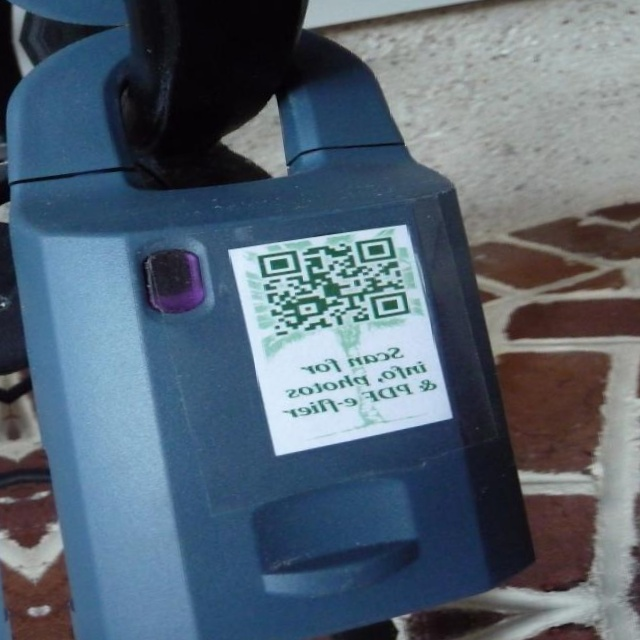qr-code: (257, 235, 413, 337)
